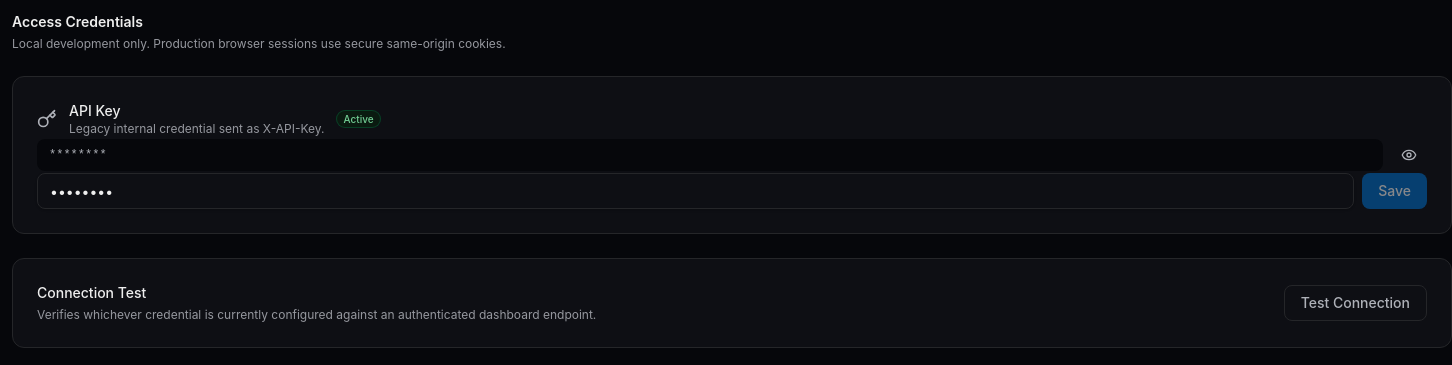
Test: ApiKeySettings › never exposes a complete short credential until the user reveals it
The width and height of the screenshot is (1452, 365).
Expected: the text "********" is shown, [37, 139, 1383, 171]
Expected: the text "tiny-key" is not shown
Click the button named "Reveal API Key". click: (1409, 155)
box: [1391, 137, 1427, 173]
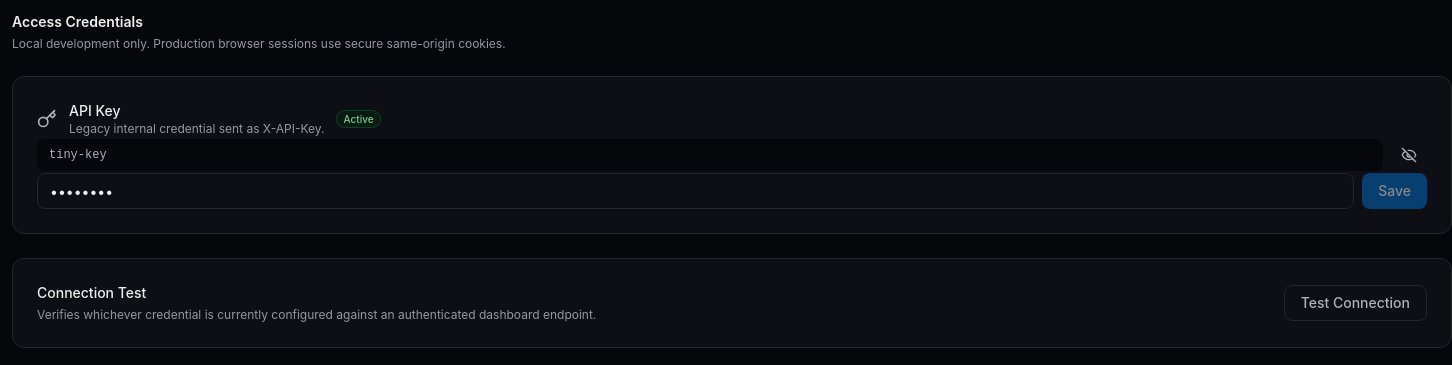
Result: the text "tiny-key" is shown at [37, 139, 1383, 171]
